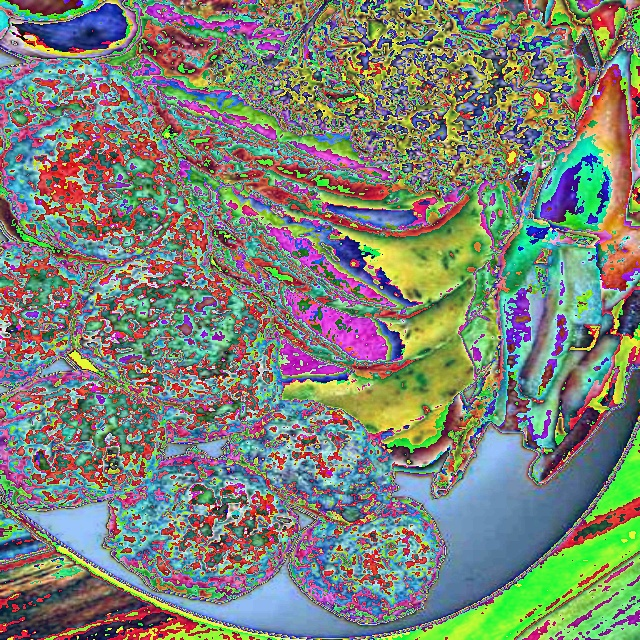background: (0, 0, 640, 625)
